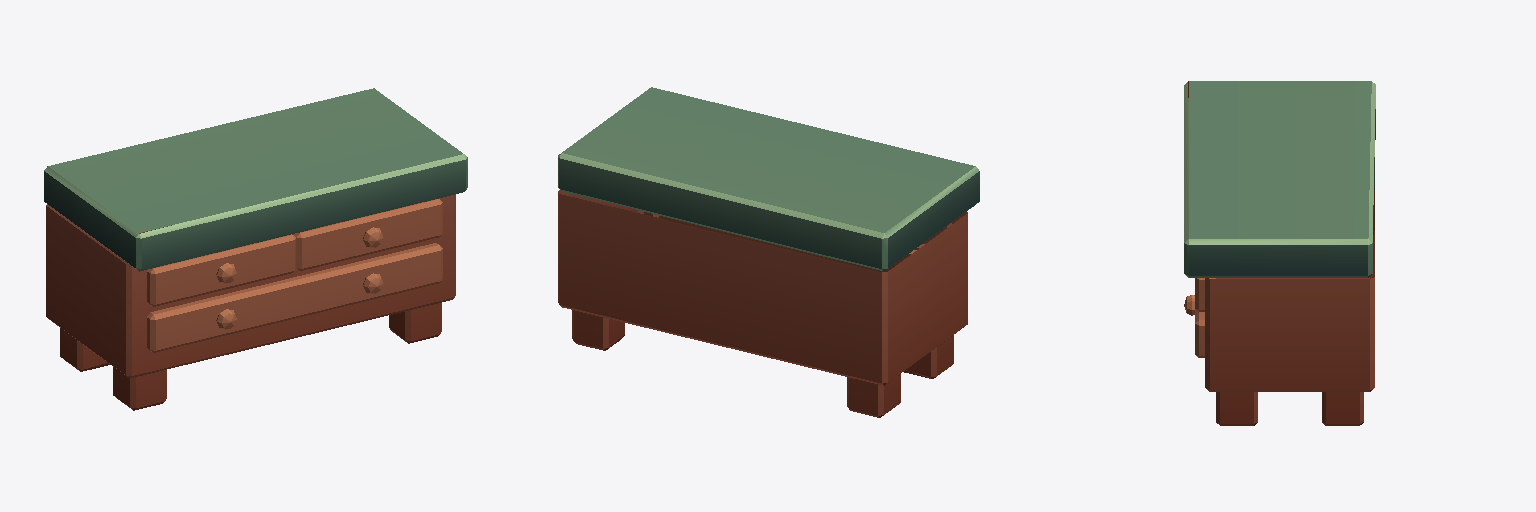
The picture shows the model from 3 angles: view 1: azimuth 30°, elevation 25°; view 2: azimuth 150°, elevation 25°; view 3: azimuth 270°, elevation 25°; orthographic projection.
Visible parts, largest first — view 1: cabinet_medium_Cube.012; view 2: cabinet_medium_Cube.012; view 3: cabinet_medium_Cube.012.
Part boxes in pixels (x1,y1,x2,y2): cabinet_medium_Cube.012: (44, 88, 467, 410); cabinet_medium_Cube.012: (558, 87, 979, 417); cabinet_medium_Cube.012: (1184, 81, 1375, 425).
Bounding box in the file's own units: 1.81 × 1 × 0.9078.
1 materials, 1 textured.